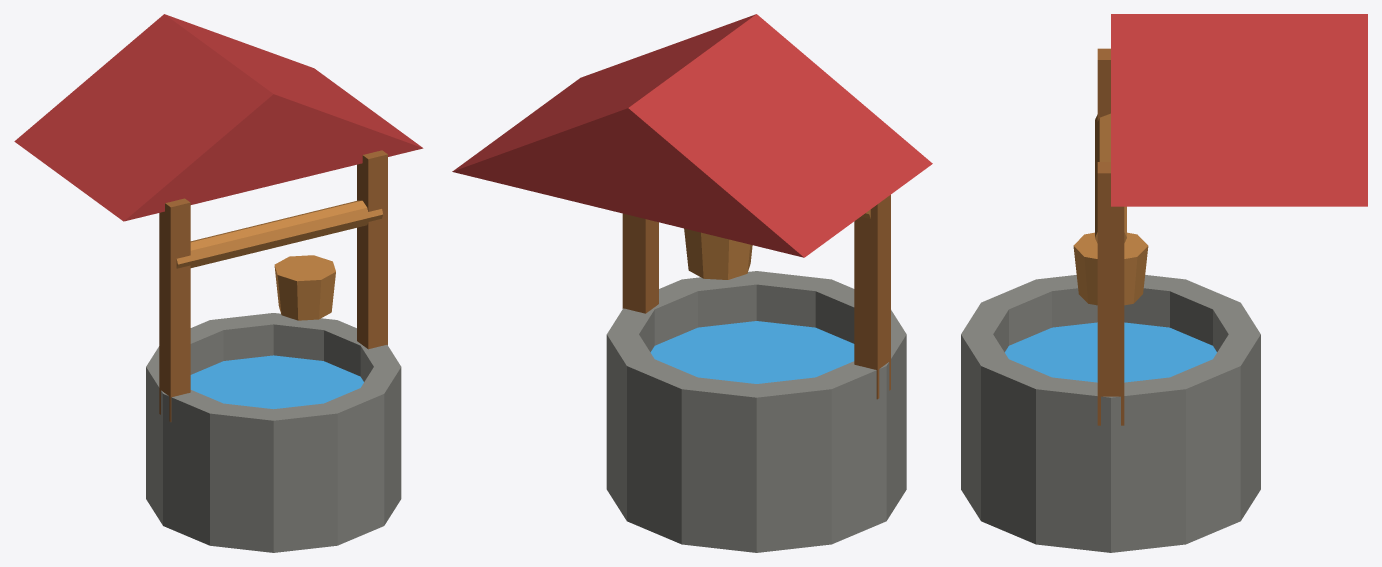
The model's file is Well.fbx.
3 views of the same model, side by side, from view 1: azimuth 30°, elevation 25°; view 2: azimuth 150°, elevation 25°; view 3: azimuth 270°, elevation 25° (orthographic). The views are drawn at different scales.
Parts seen in each view (by area): view 1: Well; view 2: Well; view 3: Well.
Boxes of the visible parts, x1=… form: Well: x1=14, y1=14, x2=423, y2=552; Well: x1=452, y1=14, x2=932, y2=552; Well: x1=961, y1=14, x2=1367, y2=552.
Bounding box in the file's own units: 3.8 × 4.9 × 3.8.
1 material, 1 textured.
